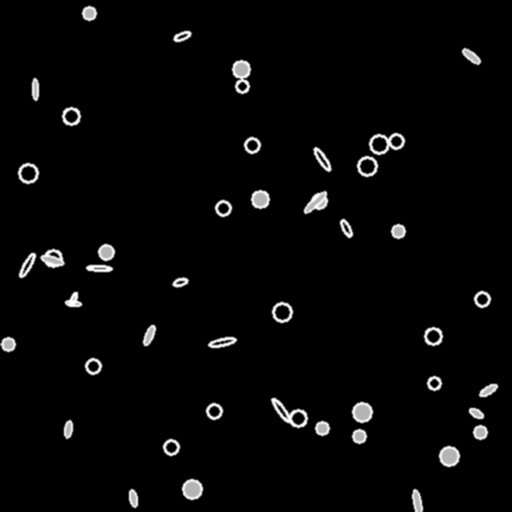pseudomonas: (303, 190, 327, 214), (270, 397, 292, 423), (17, 251, 37, 279), (312, 146, 332, 172), (461, 47, 481, 65), (209, 336, 235, 348), (142, 324, 156, 346), (40, 254, 64, 266), (339, 219, 353, 237), (479, 383, 497, 397), (412, 489, 422, 512), (173, 30, 191, 42), (468, 407, 484, 419), (128, 489, 138, 507), (172, 277, 188, 287), (68, 291, 78, 307), (87, 265, 111, 271), (64, 421, 72, 437), (32, 79, 38, 99), (65, 300, 81, 306)
synechocystis: (273, 303, 291, 321), (183, 480, 201, 498), (358, 157, 376, 175), (440, 447, 458, 465), (353, 403, 371, 421), (370, 135, 388, 153), (19, 164, 37, 182), (425, 328, 441, 344), (290, 410, 306, 426), (63, 108, 79, 124), (233, 61, 249, 77), (252, 191, 268, 207), (45, 250, 61, 266), (207, 404, 221, 418), (475, 292, 489, 306), (99, 245, 113, 259), (86, 359, 100, 373), (312, 194, 326, 208), (216, 201, 230, 215), (245, 138, 259, 152), (164, 440, 178, 454), (389, 134, 403, 148), (2, 338, 14, 350), (428, 377, 440, 389), (392, 225, 404, 237), (316, 422, 328, 434), (353, 430, 365, 442), (236, 80, 248, 92), (83, 7, 95, 19), (474, 426, 486, 438)
